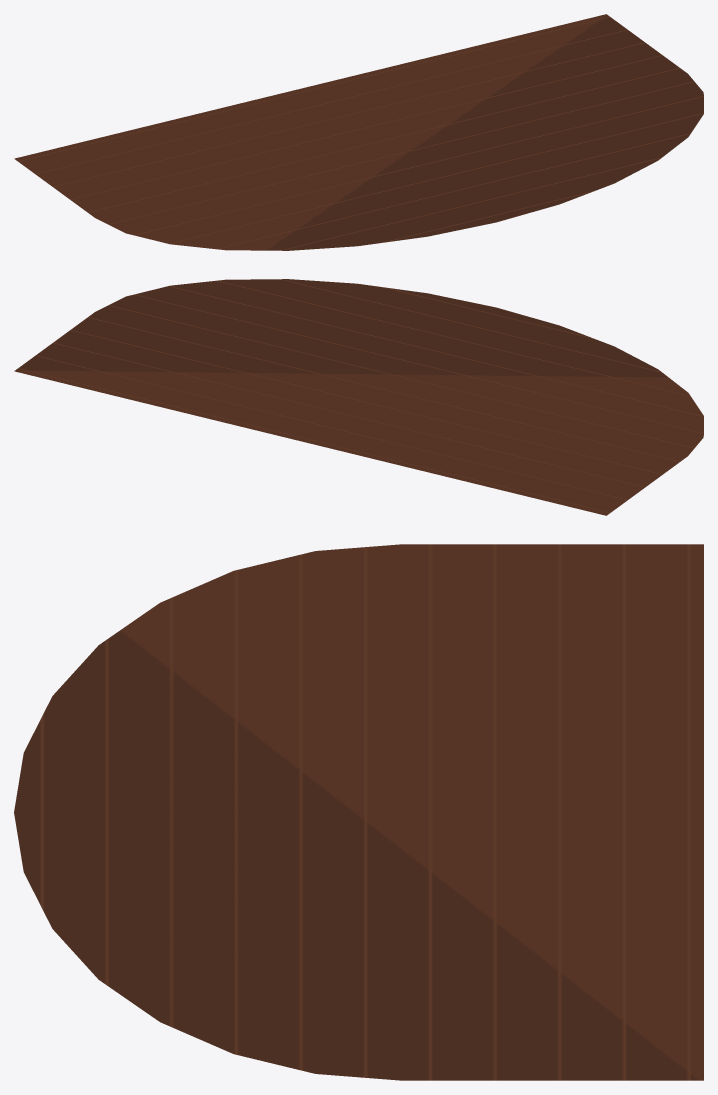
File: dessus.glb
3 views of the same model, one above another, from view 1: azimuth 30°, elevation 25°; view 2: azimuth 150°, elevation 25°; view 3: azimuth 270°, elevation 25° (orthographic). The views are drawn at different scales.
Parts seen in each view (by area): view 1: dessus_0; view 2: dessus_0; view 3: dessus_0.
Part boxes in pixels (bbox=[...]): dessus_0: bbox=[14, 14, 703, 250]; dessus_0: bbox=[14, 279, 703, 515]; dessus_0: bbox=[14, 544, 703, 1080].
Size of the model in its own units: 12.6 by 0 by 6.85.
1 material, 1 textured.
